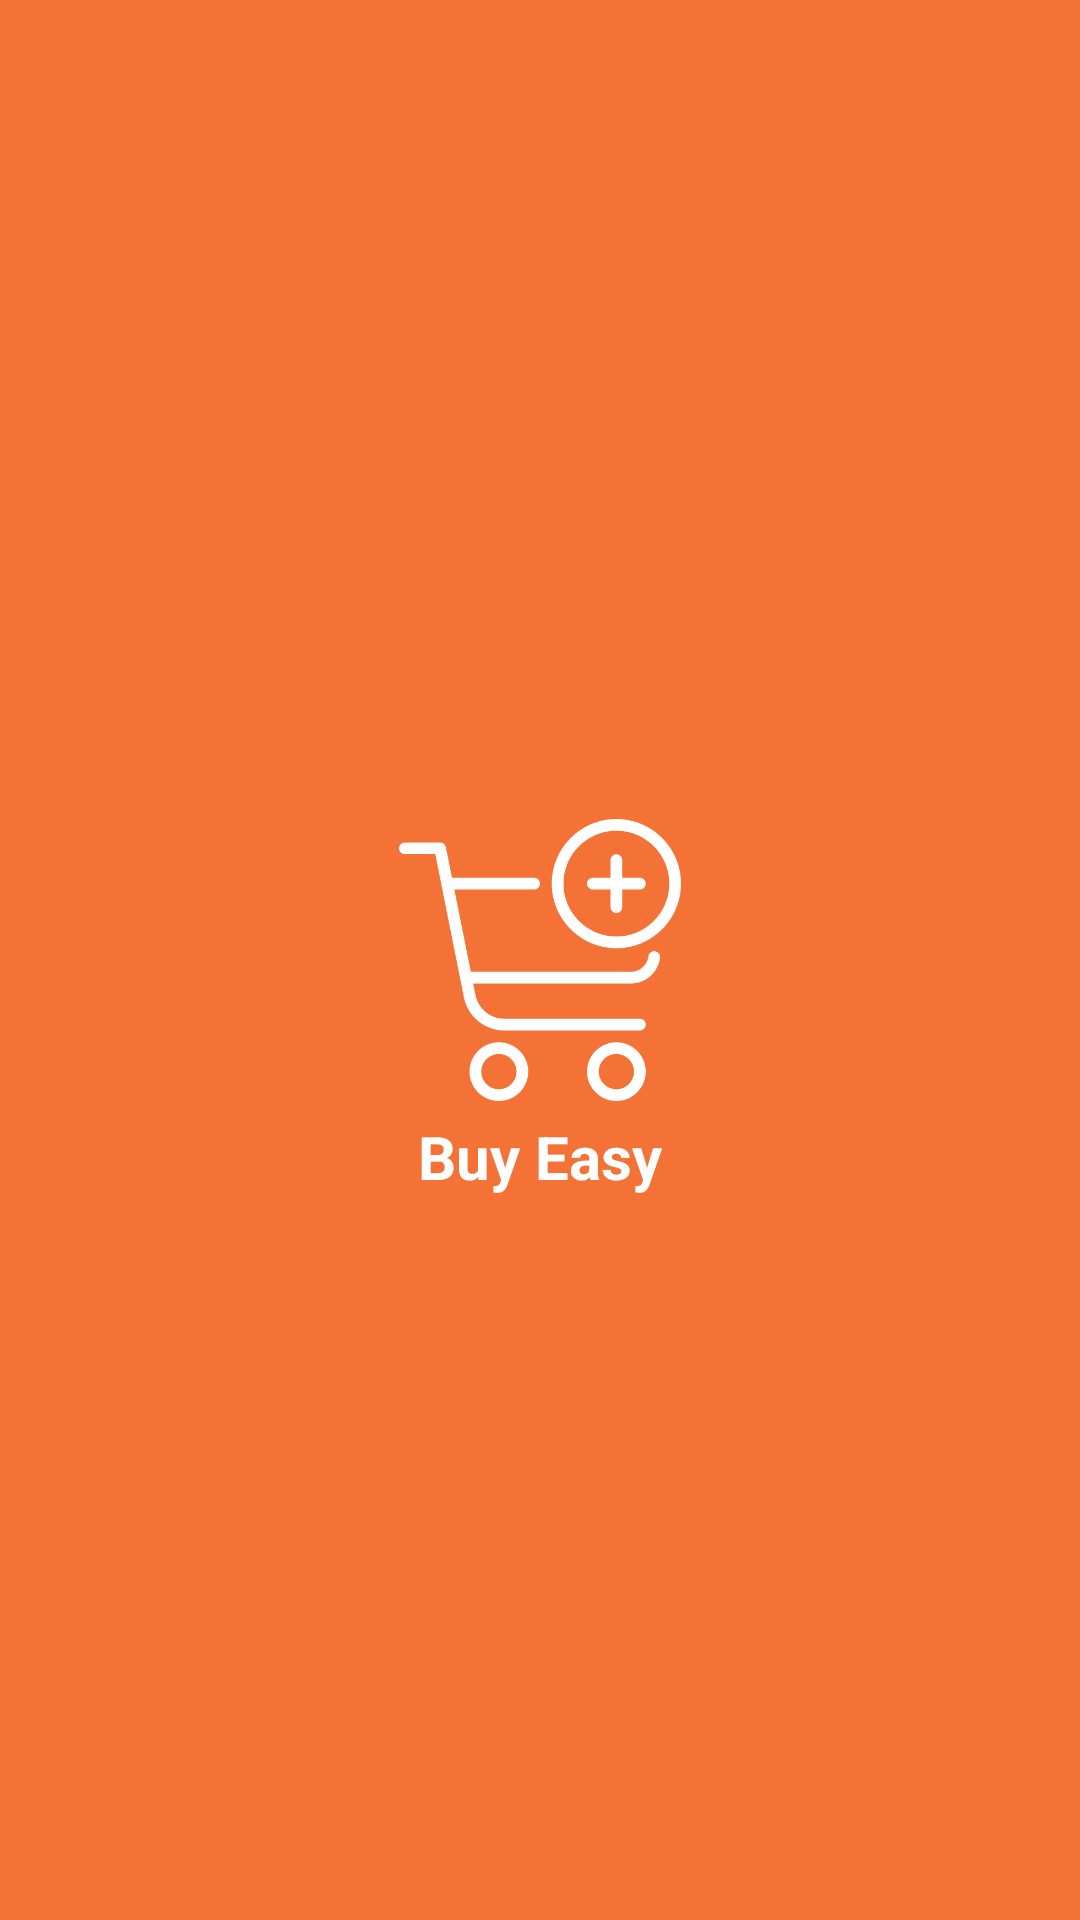

Where icons sit on this 1080px×1920px app screen, as detection(x1, y1, x2, y2):
cart: detection(399, 819, 681, 1101)
